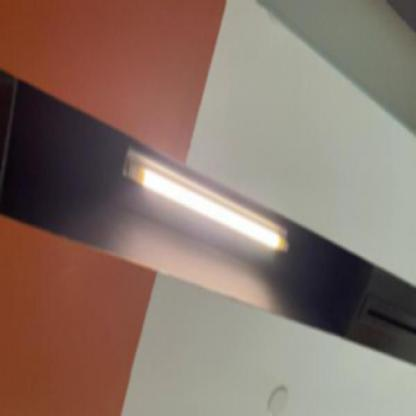light_on: (108, 135, 296, 255)
